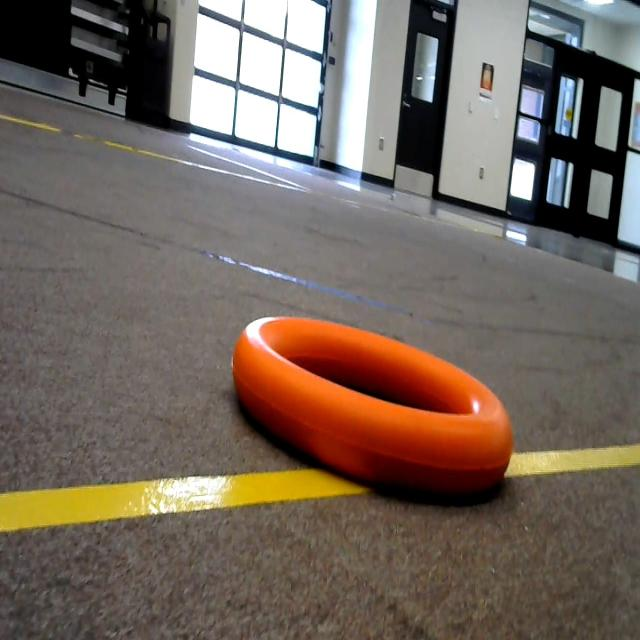note: (216, 285, 524, 535)
